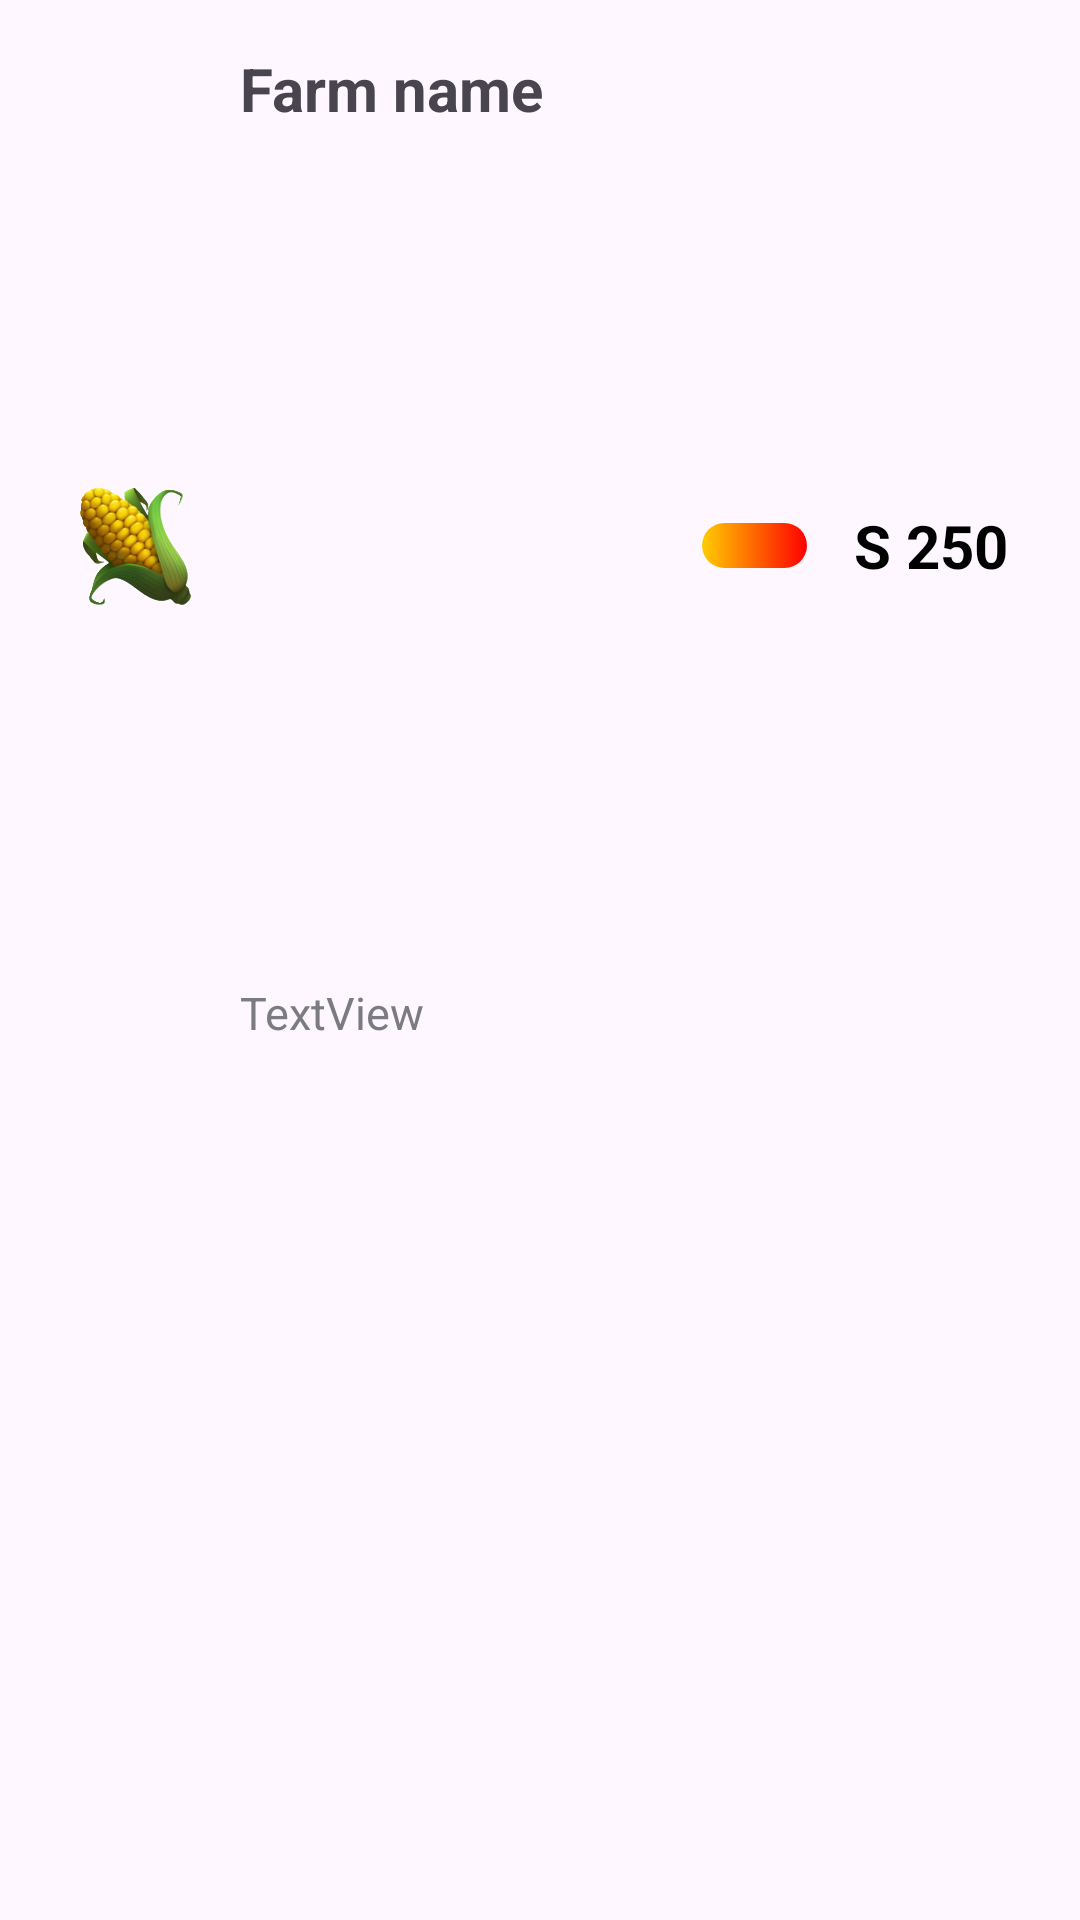

Named icons in this screenshot (1080x1920) and their centers, (x=x, y=y):
corn: (x=135, y=546)
